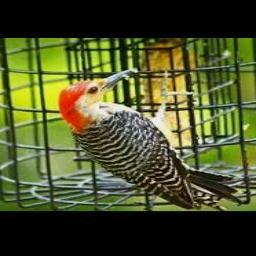Woodpecker: (58, 67, 238, 210)
